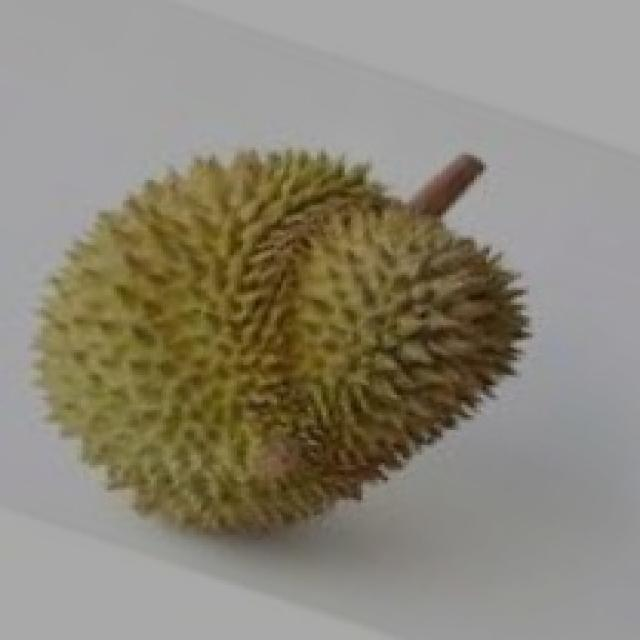fruit: (172, 155, 572, 580), (0, 175, 366, 593)
